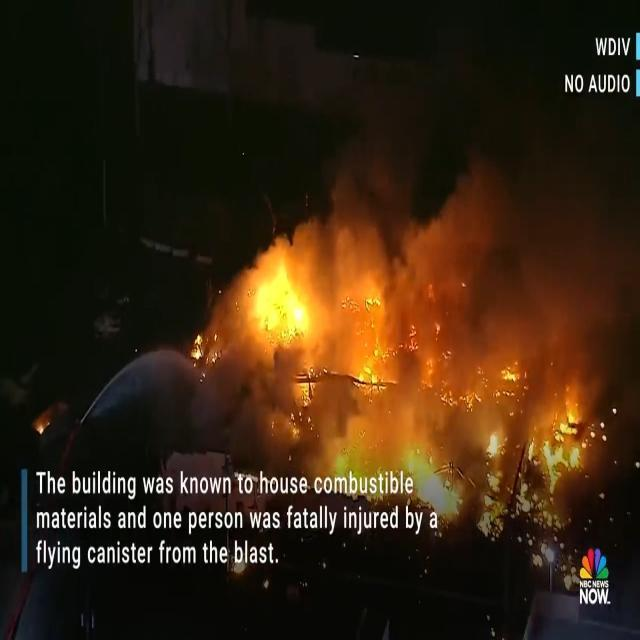fire: (354, 294, 482, 514), (262, 249, 338, 362), (522, 378, 594, 483), (284, 398, 348, 470)
